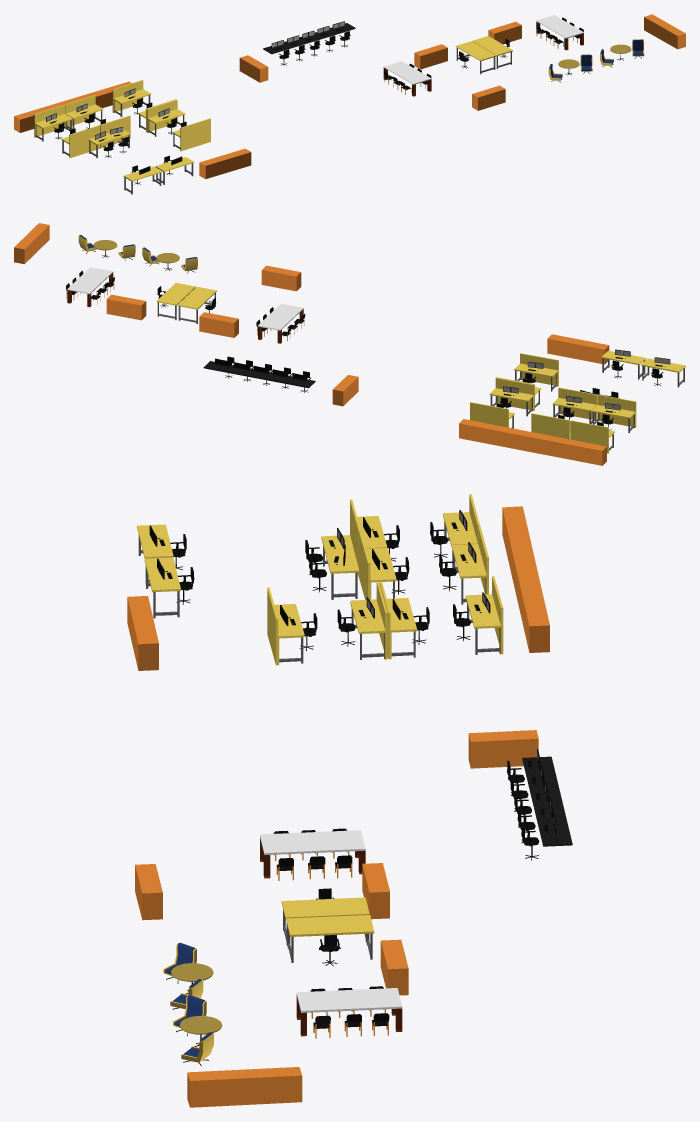
File: 3rdFLR_Right.fbx
The picture shows the model from 3 angles, top to bottom: view 1: azimuth 30°, elevation 25°; view 2: azimuth 150°, elevation 25°; view 3: azimuth 270°, elevation 25°; orthographic projection. The views are drawn at different scales.
Parts seen in each view (by area): view 1: 3rdFLROtherSideRoom2, 3rdFLROtherSideRoom1; view 2: 3rdFLROtherSideRoom2, 3rdFLROtherSideRoom1; view 3: 3rdFLROtherSideRoom1, 3rdFLROtherSideRoom2.
Boxes of the visible parts, <box> form: 3rdFLROtherSideRoom2: <box>14,80,251,194</box>; 3rdFLROtherSideRoom1: <box>239,14,685,110</box>; 3rdFLROtherSideRoom2: <box>459,334,685,465</box>; 3rdFLROtherSideRoom1: <box>14,223,358,406</box>; 3rdFLROtherSideRoom1: <box>135,730,572,1107</box>; 3rdFLROtherSideRoom2: <box>127,494,549,670</box>.
Size of the model in its own units: 3659 by 139 by 1198.
